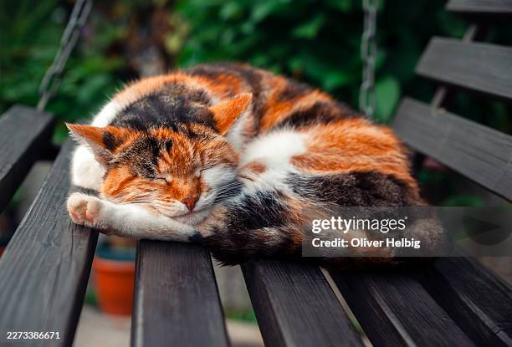cat_sleeping: (66, 65, 427, 266)
